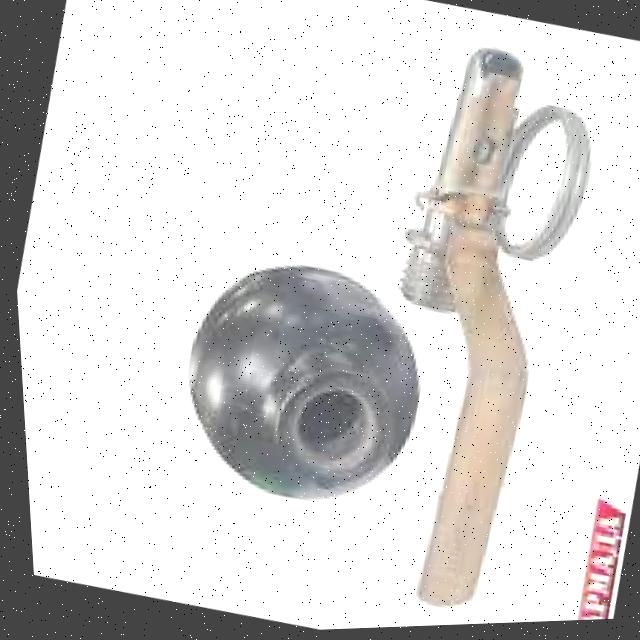grenade: (148, 241, 446, 533)
